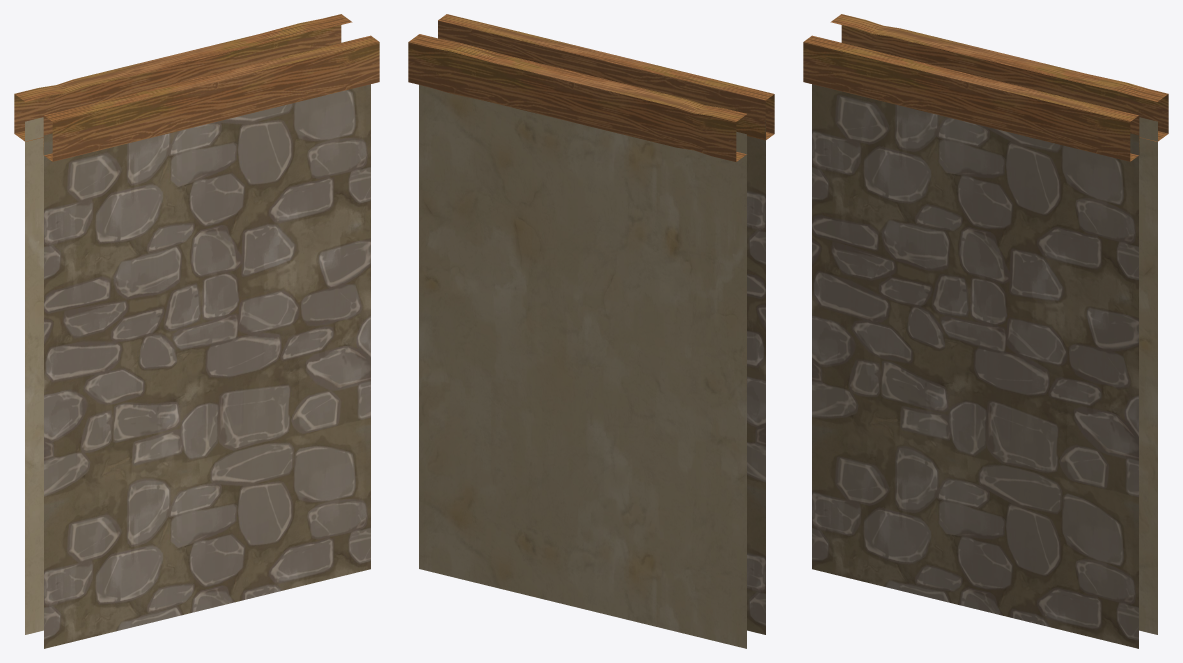
The model's file is Wall_UnevenBrick_Straight.gltf.
3 renders of one model, left to right at view 1: azimuth 30°, elevation 25°; view 2: azimuth 150°, elevation 25°; view 3: azimuth 330°, elevation 25°, orthographic.
Visible parts, largest first — view 1: Wall_UnevenBrick_Straight; view 2: Wall_UnevenBrick_Straight; view 3: Wall_UnevenBrick_Straight.
Part boxes in pixels (x1,y1,x2,y2): Wall_UnevenBrick_Straight: (14,14,379,648); Wall_UnevenBrick_Straight: (408,14,774,648); Wall_UnevenBrick_Straight: (803,14,1168,648).
Bounding box in the file's own units: 2 × 3.12 × 0.4065.
3 materials, 3 textured.
